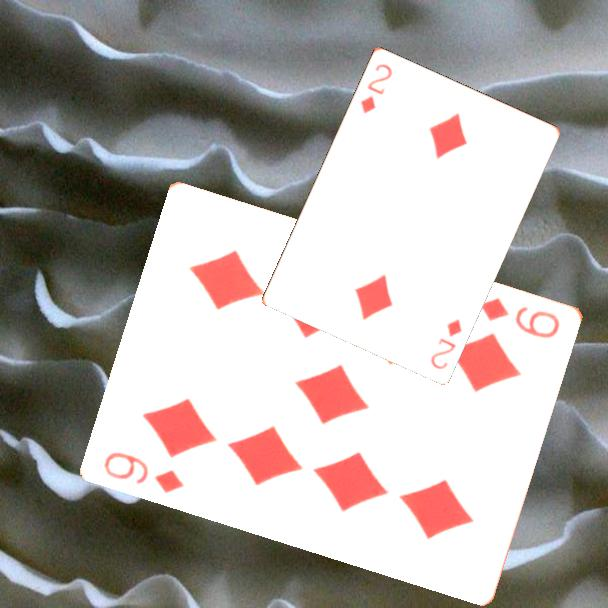d02: (357, 60, 395, 117), (427, 315, 465, 372)
d09: (476, 294, 564, 341), (101, 448, 187, 496)
